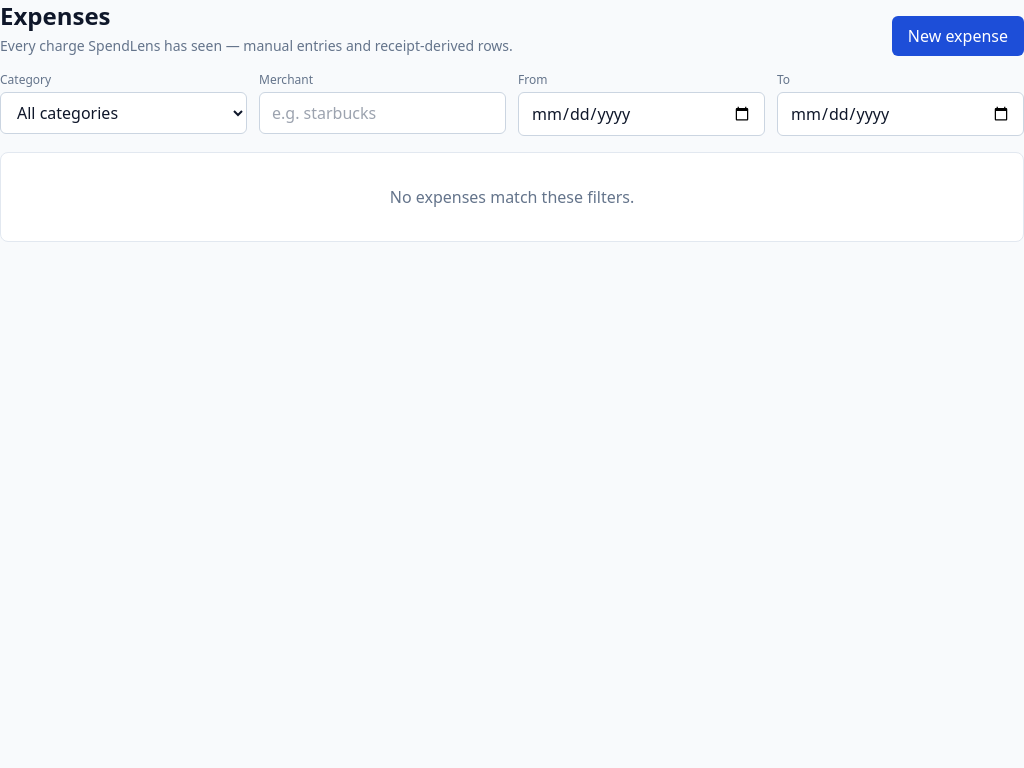
Test: ExpensesPage › opens the create dialog when "New expense" is clicked
Expected: the text "No expenses match these filters." is shown, [0,152,1023,242]
Click the button "New expense" at (958, 36), box [892,16,1023,56]
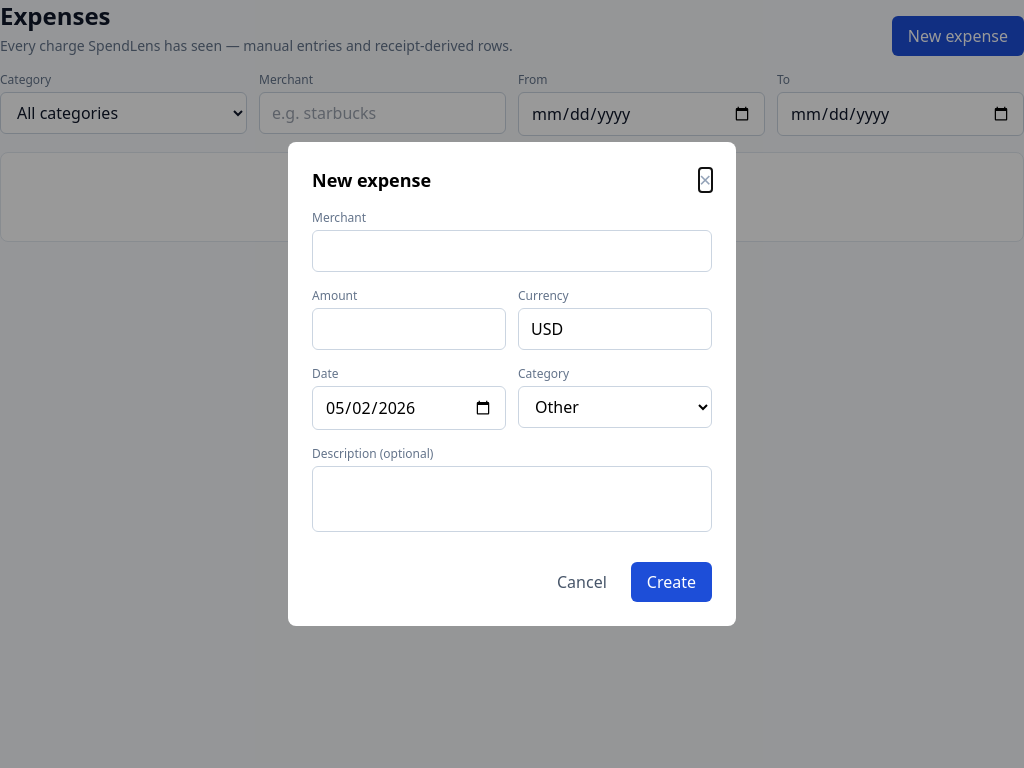
Result: the heading "New expense" is shown at [312,166,431,194]
